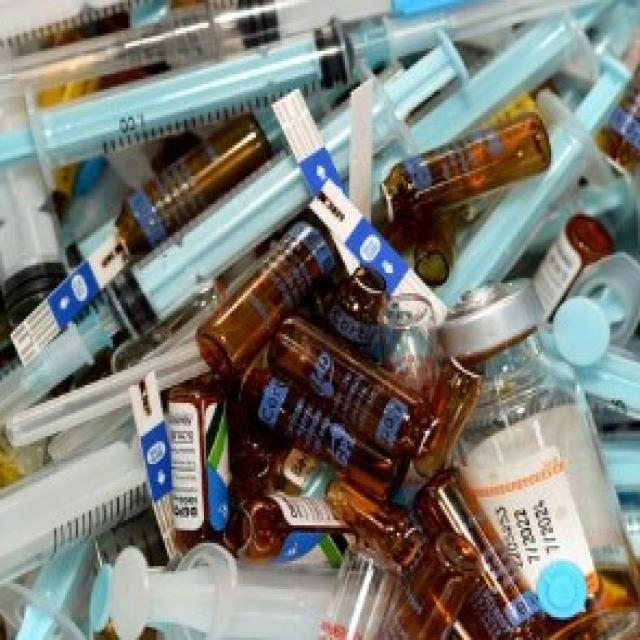electronic: (436, 277, 640, 640)
